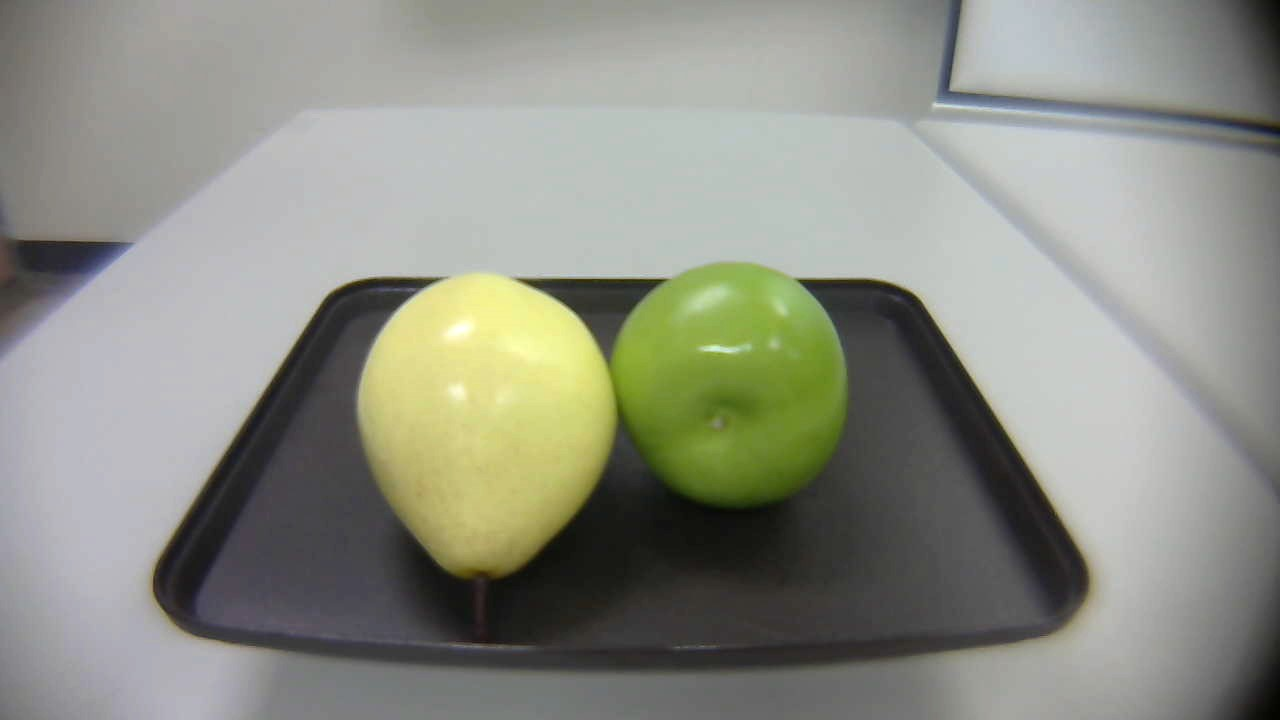green pear: (610, 250, 859, 514)
western pear: (351, 266, 615, 634)
